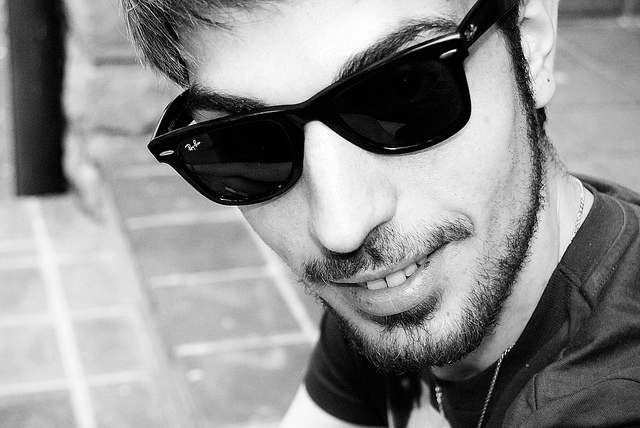sunglasses: (151, 51, 463, 209), (158, 38, 456, 198), (151, 51, 394, 209), (158, 38, 467, 140), (151, 51, 463, 152), (158, 131, 416, 198), (151, 142, 394, 209), (149, 69, 158, 76)
